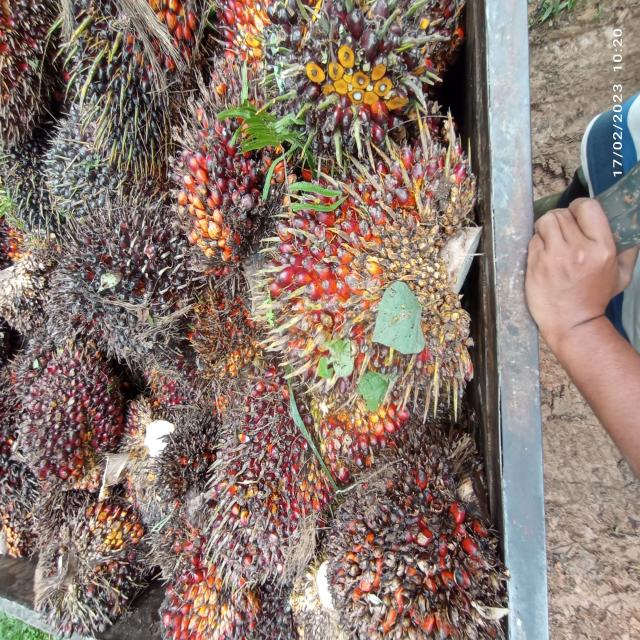fraksi 00: (42, 193, 202, 360), (60, 0, 208, 176), (33, 493, 164, 640), (36, 95, 126, 232), (0, 140, 67, 248)
fraksi 1: (204, 360, 354, 576), (6, 334, 142, 488), (151, 504, 264, 640)
fraksi 3: (259, 124, 475, 431), (168, 80, 285, 276)
fraksi 4: (323, 442, 505, 640)
